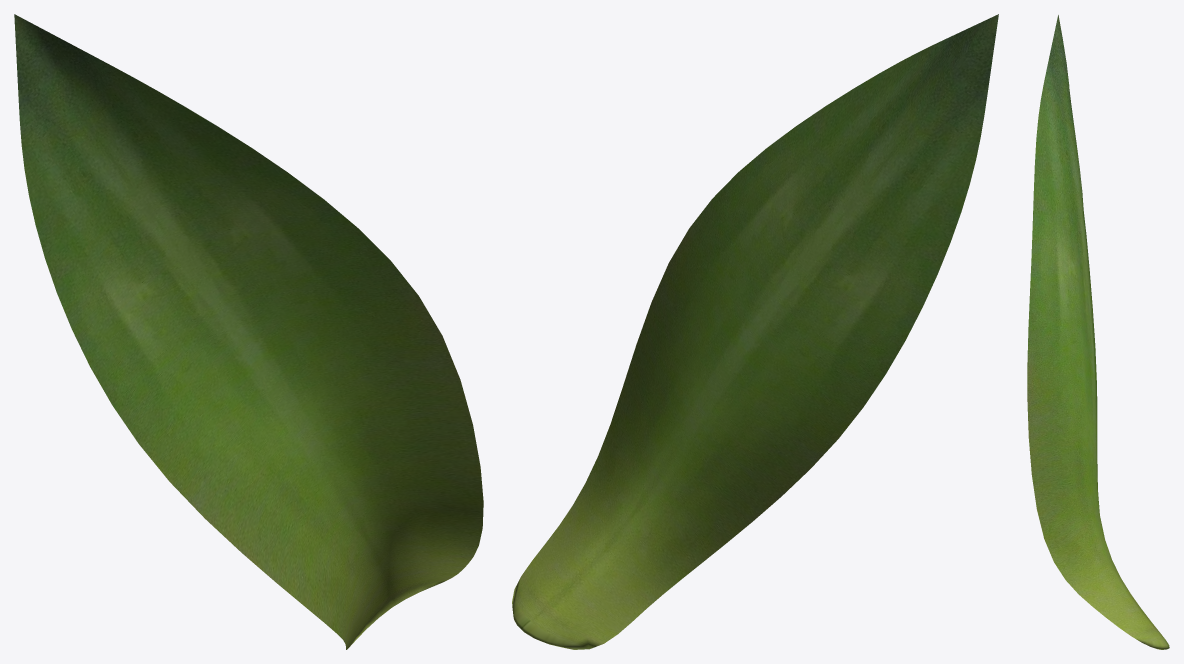
3 views of the same model, side by side, from view 1: azimuth 30°, elevation 25°; view 2: azimuth 150°, elevation 25°; view 3: azimuth 270°, elevation 25° (orthographic). The views are drawn at different scales.
Visible parts, largest first — view 1: indoor plant_02.004; view 2: indoor plant_02.004; view 3: indoor plant_02.004.
Boxes of the visible parts, x1=… form: indoor plant_02.004: x1=14, y1=14, x2=483, y2=649; indoor plant_02.004: x1=512, y1=14, x2=998, y2=649; indoor plant_02.004: x1=1027, y1=15, x2=1169, y2=649.
Size of the model in its own units: 0.7928 by 1.2 by 0.3073.
Materials: 1 (1 with a texture image).
